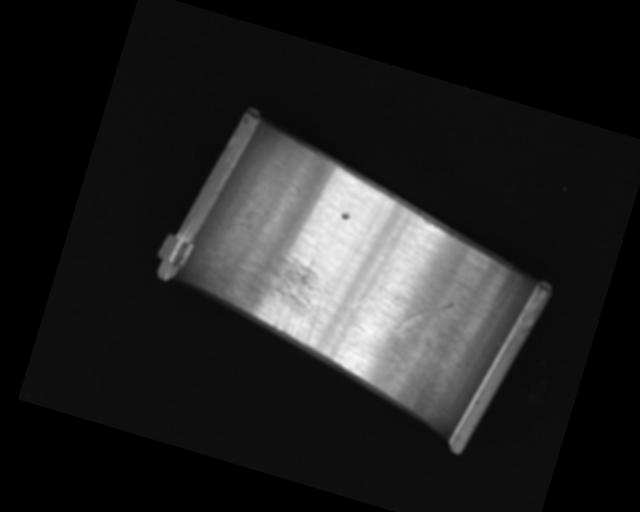bruise: (339, 211, 352, 222)
nick: (348, 201, 419, 320), (459, 261, 521, 353), (398, 290, 454, 343), (380, 326, 407, 381)
scratch: (211, 235, 343, 348)
